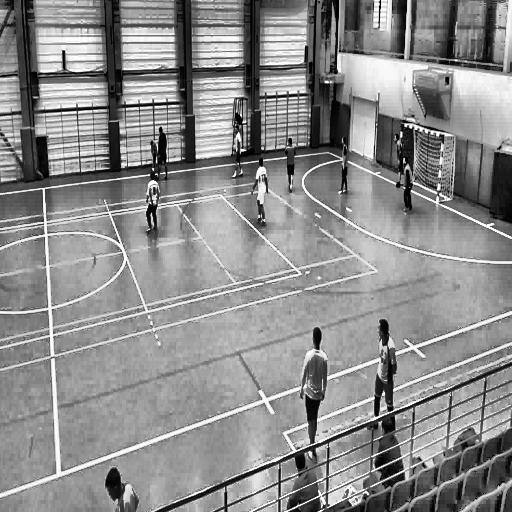ball: (150, 166, 156, 176)
player: (298, 324, 328, 467), (369, 315, 397, 436), (251, 157, 271, 229), (400, 155, 416, 214), (283, 136, 298, 196), (147, 173, 161, 236), (155, 124, 170, 182), (392, 129, 406, 191), (338, 132, 350, 197), (232, 126, 244, 180), (149, 136, 160, 172)
